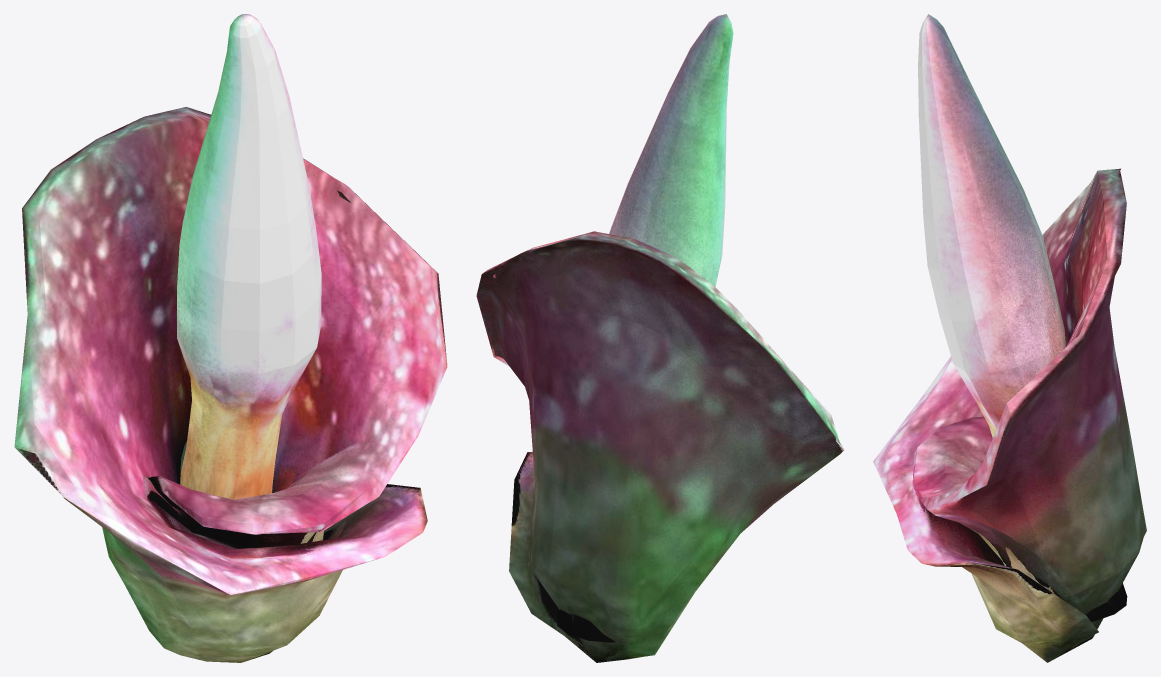
File: bunga.glb
3 views of the same model, side by side, from view 1: azimuth 30°, elevation 25°; view 2: azimuth 150°, elevation 25°; view 3: azimuth 270°, elevation 25° (orthographic). The views are drawn at different scales.
Parts seen in each view (by area): view 1: lp 2; view 2: lp 2; view 3: lp 2.
Boxes of the visible parts, box(x1,y1,x2,y2) form: lp 2: box(14, 14, 447, 662); lp 2: box(476, 14, 844, 662); lp 2: box(873, 14, 1146, 662).
Size of the model in its own units: 0.7341 by 1.18 by 0.4803.
Materials: 2 (2 with a texture image).
